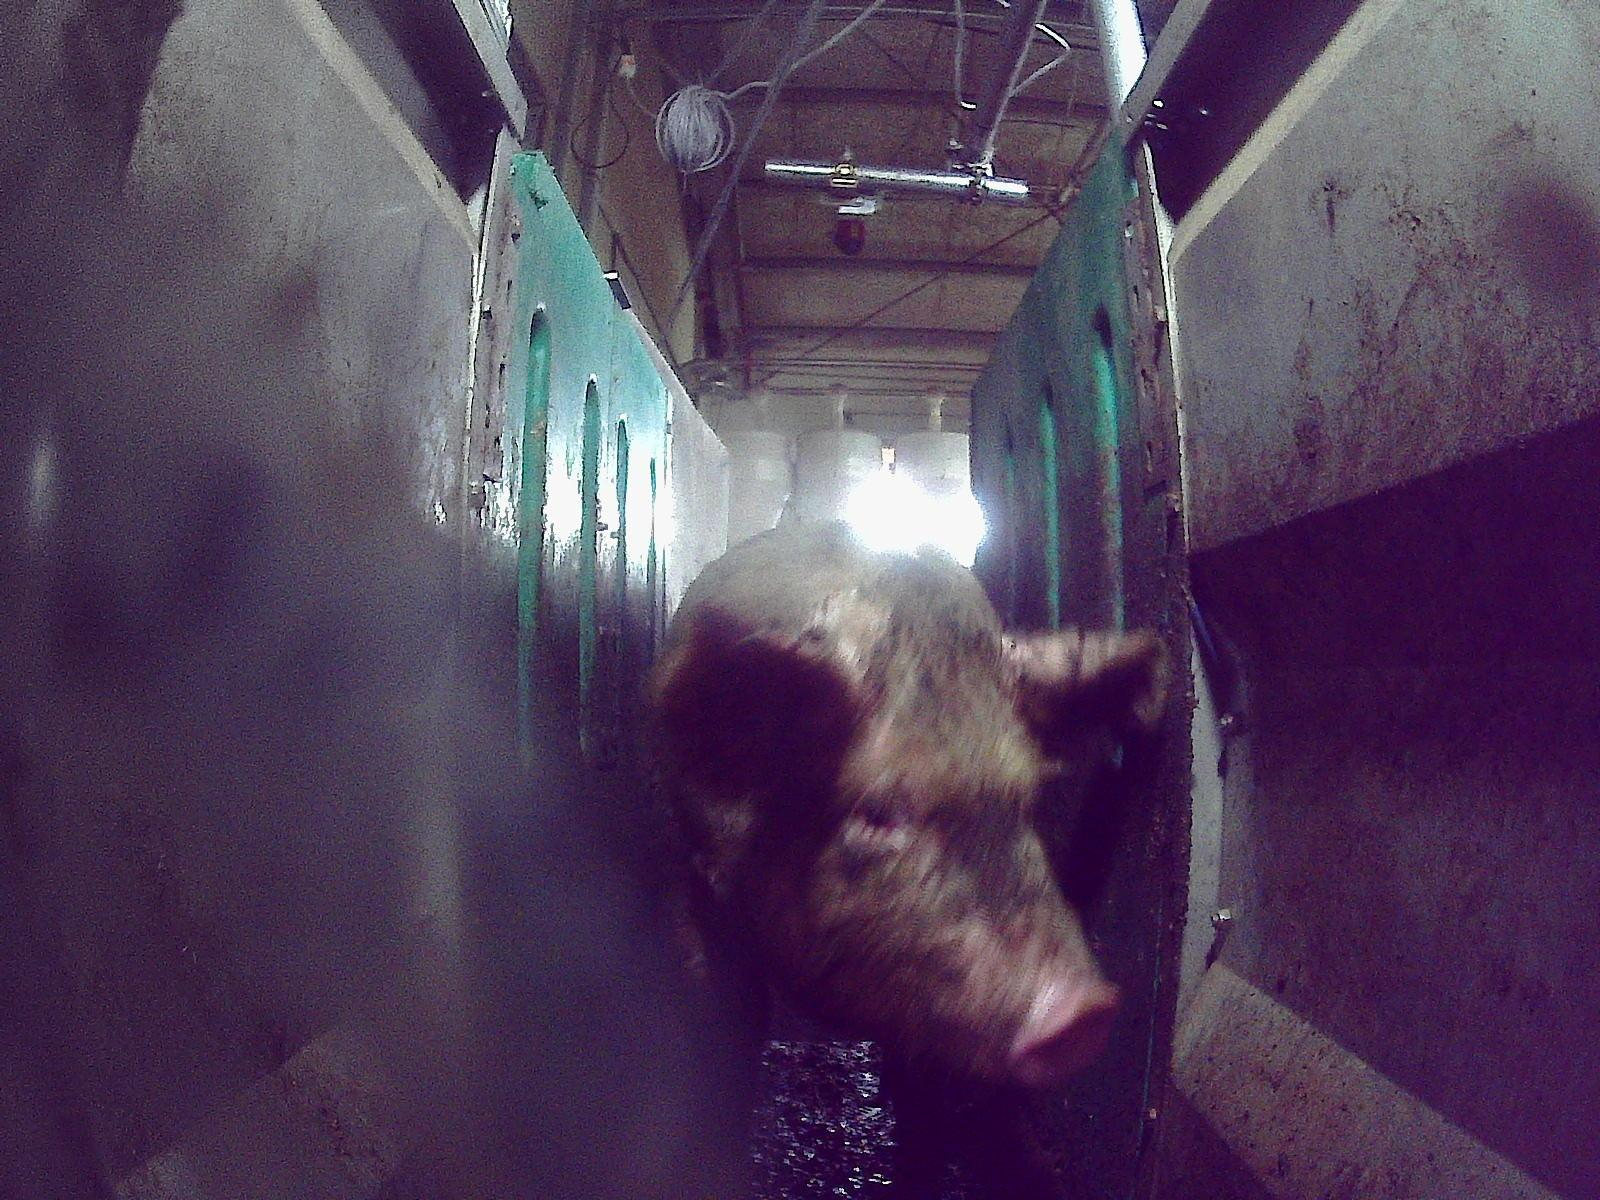Face: (773, 624, 1122, 1090)
